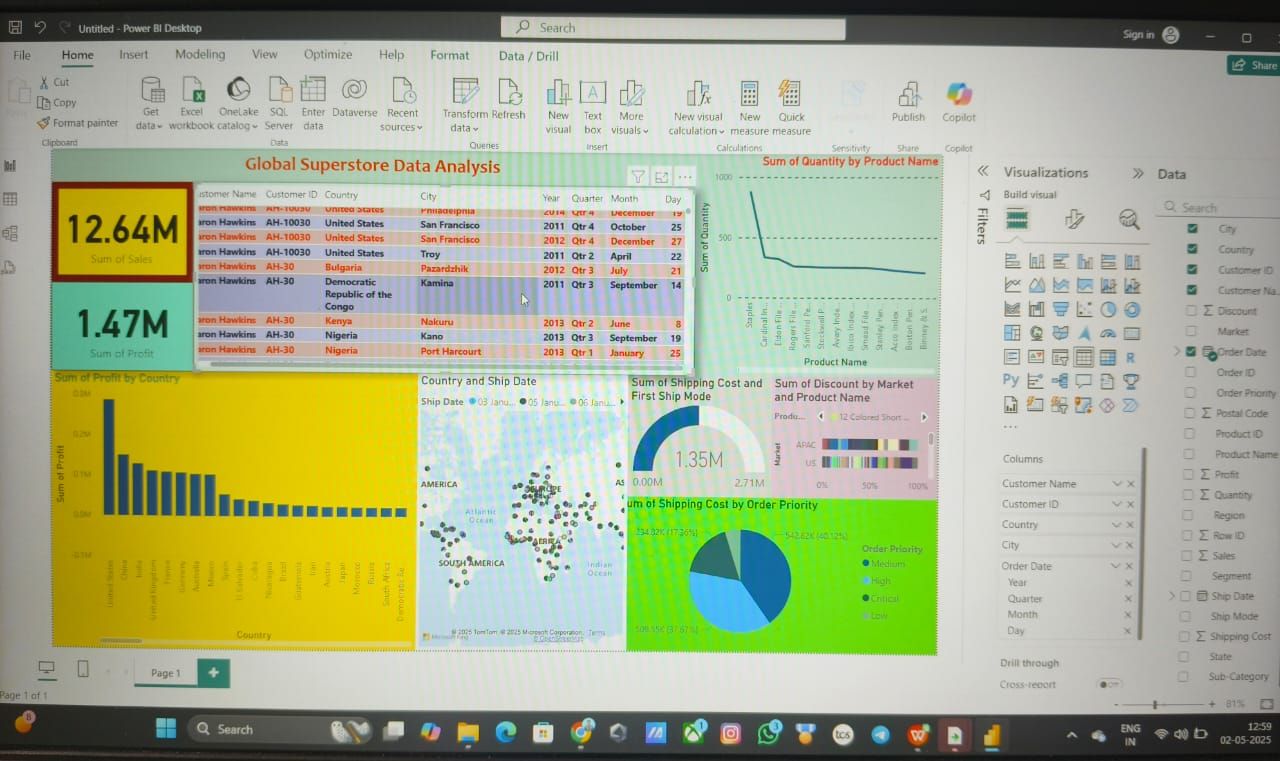

The dashboard page shown, as its layout file describes it:
{"tool":"powerbi","page":{"name":"Page 1","canvas":[1280,720],"ordinal":0},"visuals":[{"type":"textbox","box":[0,0,928,48],"z":0},{"type":"columnChart","fields":{"Category":["Global_Superstore2[1].Country"],"Y":["Sum(Global_Superstore2[1].Profit)"]},"box":[0,320,528,400],"z":1000},{"type":"card","fields":{"Values":["Sum(Global_Superstore2[1].Sales)"]},"box":[0,48,208,144],"z":2000},{"type":"card","fields":{"Values":["Sum(Global_Superstore2[1].Profit)"]},"box":[0,192,208,128],"z":3000},{"type":"lineChart","fields":{"Category":["Global_Superstore2[1].Product Name"],"Y":["Sum(Global_Superstore2[1].Quantity)"]},"box":[928,0,352,320],"z":4000},{"type":"pieChart","fields":{"Y":["Sum(Global_Superstore2[1].Shipping Cost)"],"Category":["Global_Superstore2[1].Order Priority"]},"box":[816,496,464,224],"z":5000},{"type":"tableEx","fields":{"Values":["Global_Superstore2[1].Customer Name","Global_Superstore2[1].Customer ID","Global_Superstore2[1].Country","Global_Superstore2[1].City","Global_Superstore2[1].Order Date.Variation.Date Hierarchy.Year","Global_Superstore2[1].Order Date.Variation.Date Hierarchy.Quarter","Global_Superstore2[1].Order Date.Variation.Date Hierarchy.Month","Global_Superstore2[1].Order Date.Variation.Date Hierarchy.Day"]},"box":[208,48,720,272],"z":6000},{"type":"gauge","fields":{"Y":["Sum(Global_Superstore2[1].Shipping Cost)"]},"box":[832,320,208,176],"z":7000},{"type":"map","fields":{"Category":["Global_Superstore2[1].Country"],"Series":["Global_Superstore2[1].Ship Date"]},"box":[528,320,304,400],"z":8000},{"type":"hundredPercentStackedBarChart","fields":{"Category":["Global_Superstore2[1].Market"],"Y":["Sum(Global_Superstore2[1].Discount)"],"Series":["Global_Superstore2[1].Product Name"]},"box":[1040,320,240,176],"z":9000}]}

Visuals, with their boxes on the page's 1280x720 design canvas (x1, y1, x2, y2). These are canvas units, not pixel positions in the 1280x761 screenshot, which may show the page scaled, cropped or inside an application window:
textbox: rect(0, 0, 928, 48)
columnChart - Global_Superstore2[1].Country x Sum(Global_Superstore2[1].Profit): rect(0, 320, 528, 720)
card - Sum(Global_Superstore2[1].Sales): rect(0, 48, 208, 192)
card - Sum(Global_Superstore2[1].Profit): rect(0, 192, 208, 320)
lineChart - Global_Superstore2[1].Product Name x Sum(Global_Superstore2[1].Quantity): rect(928, 0, 1280, 320)
pieChart - Sum(Global_Superstore2[1].Shipping Cost) x Global_Superstore2[1].Order Priority: rect(816, 496, 1280, 720)
tableEx - Global_Superstore2[1].Customer Name x Global_Superstore2[1].Customer ID: rect(208, 48, 928, 320)
gauge - Sum(Global_Superstore2[1].Shipping Cost): rect(832, 320, 1040, 496)
map - Global_Superstore2[1].Country x Global_Superstore2[1].Ship Date: rect(528, 320, 832, 720)
hundredPercentStackedBarChart - Global_Superstore2[1].Market x Sum(Global_Superstore2[1].Discount): rect(1040, 320, 1280, 496)
